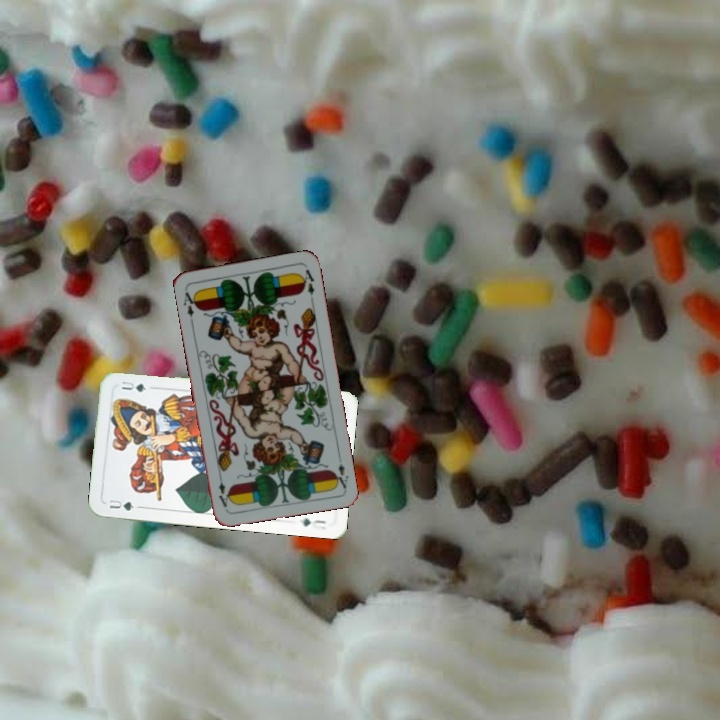EA: (179, 288, 201, 319), (330, 460, 351, 491)
GU: (105, 495, 137, 513)
